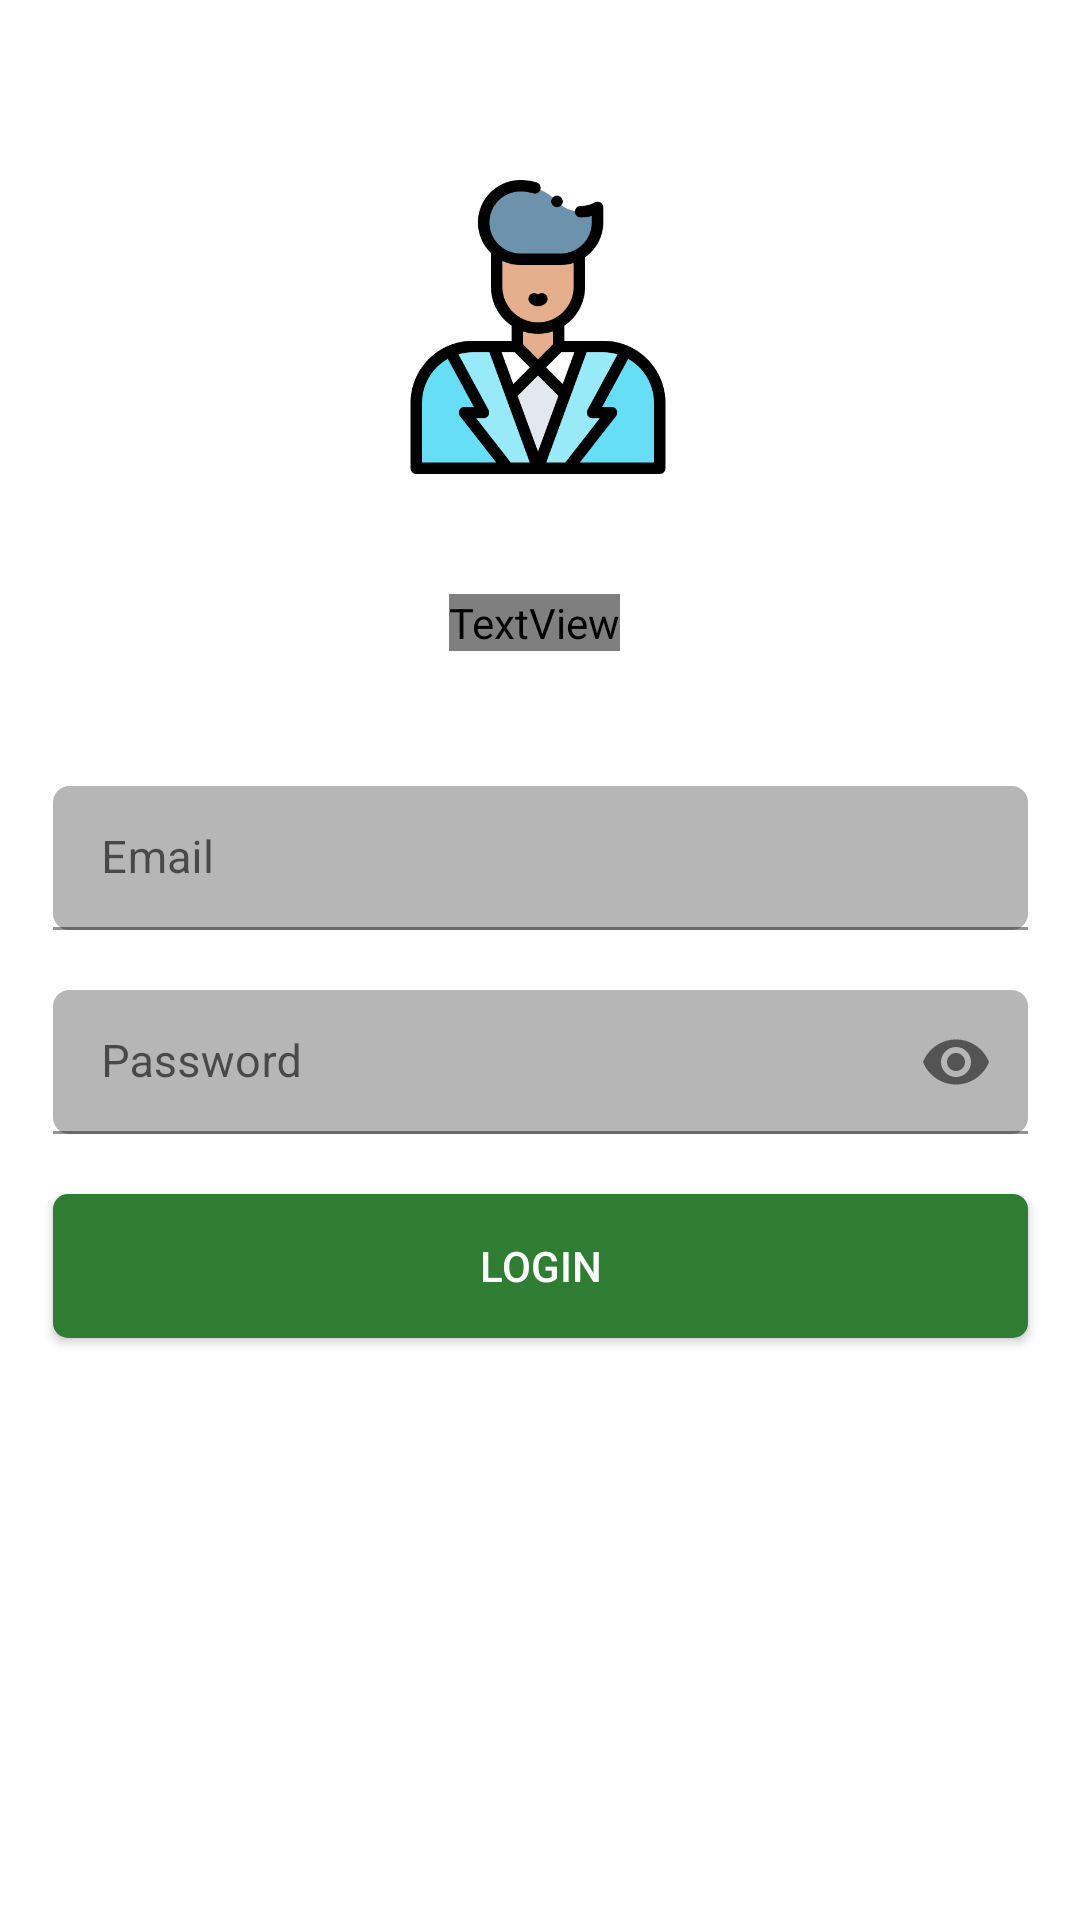

Where to tap for icons on this 1080 × 1920 app screen, as [x,y]:
user: [538,327]
